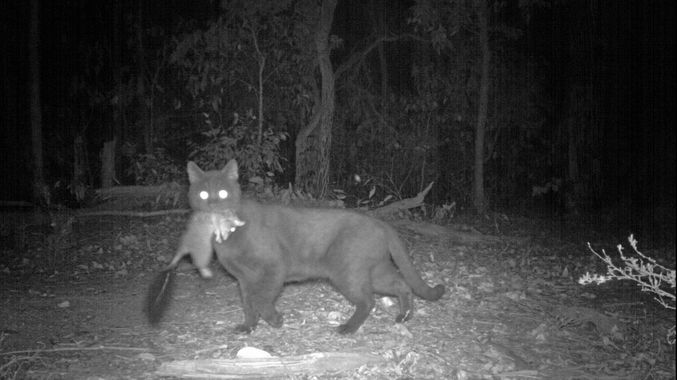house cat: (170, 111, 450, 332), (173, 200, 245, 295)
